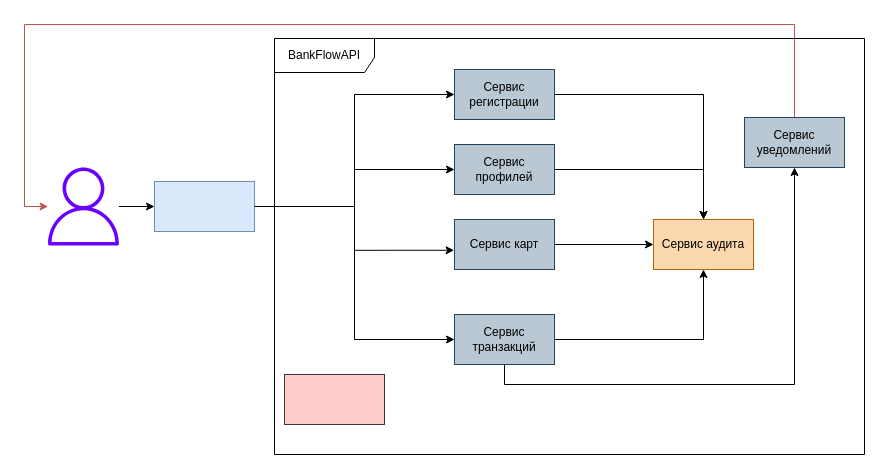
Image size: 882x472. Some labels were removed from this diagram. The box of each missing label's shape, as (x1, y1, x2, y2) in pixels:
Пользователь: (44, 166, 122, 246)
Сервис авторизации: (284, 374, 384, 424)
Телеграм бот (оркестратор): (154, 180, 254, 232)
